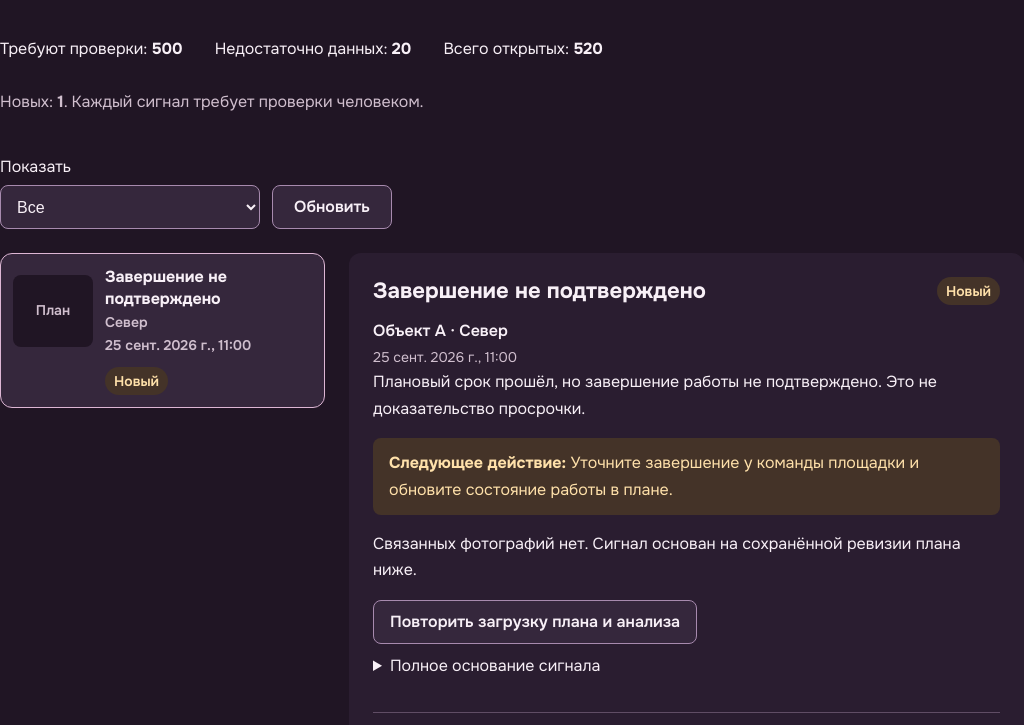
Scenario: uses server totals independently of the visible list and refreshes them after patch
Check: the element named "Сводка открытых сигналов" shows "Всего открытых: 520", box [0, 38, 603, 59]
Check: the element named "Сводка открытых сигналов" shows "Требуют проверки: 500", box [0, 38, 603, 59]
Select "Закрытые" in the dropdown labelled "Показать" at (130, 207), box [0, 185, 260, 229]
(page scrolled)
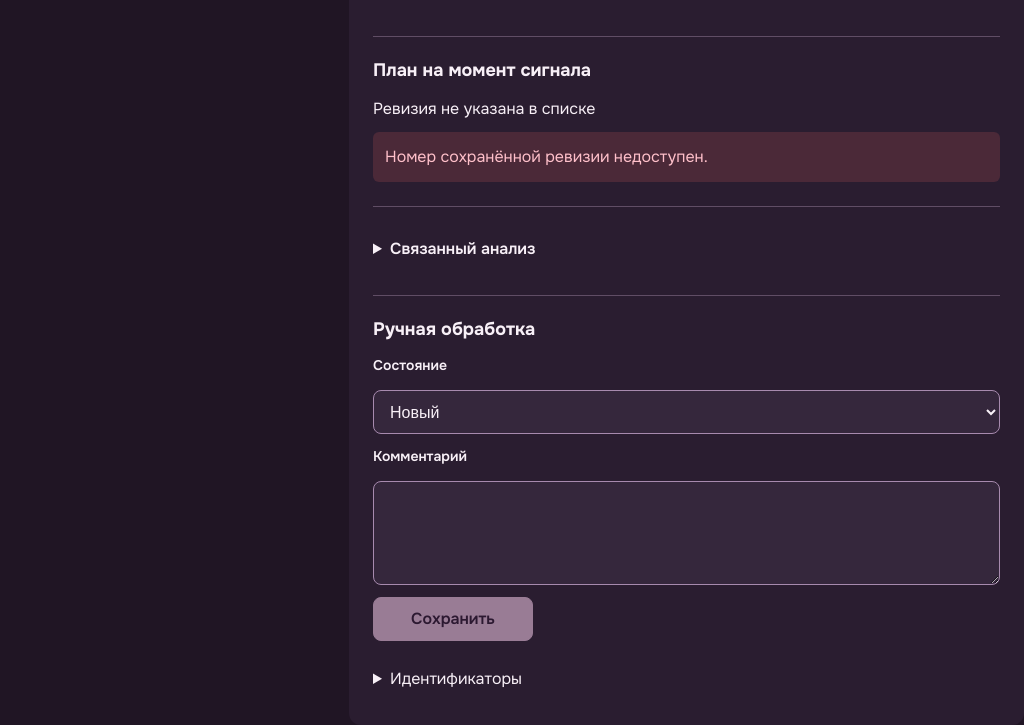
Select "Закрыт" in the dropdown labelled "Состояние" at (686, 412), box [373, 390, 1000, 434]
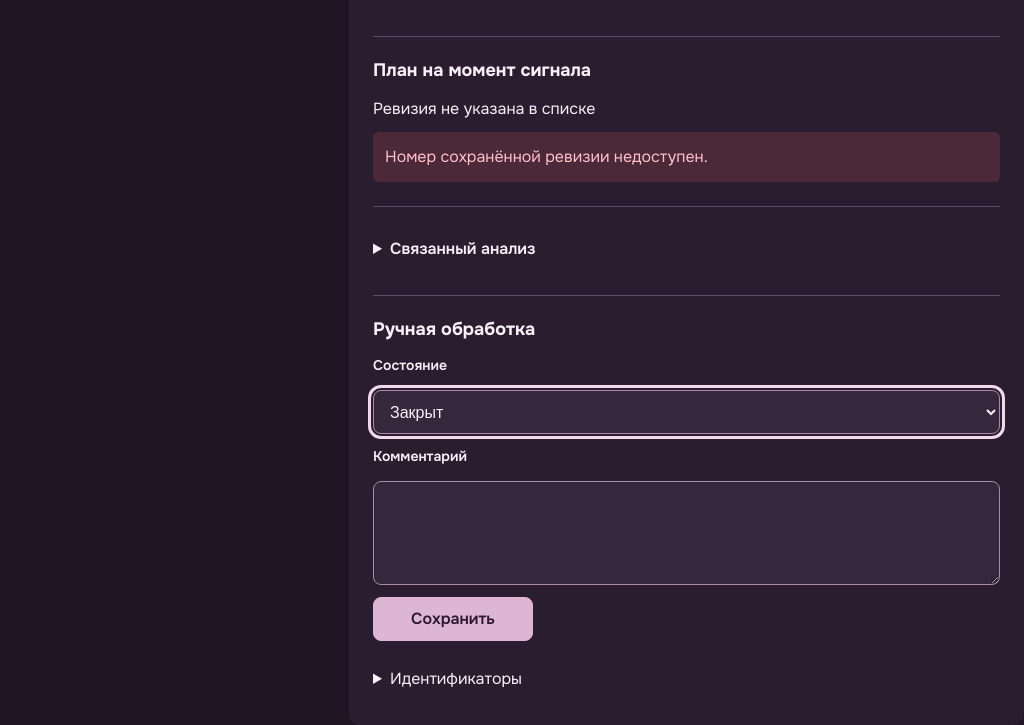
Click the button "Сохранить" at (453, 620), box [373, 598, 533, 642]
(page scrolled)
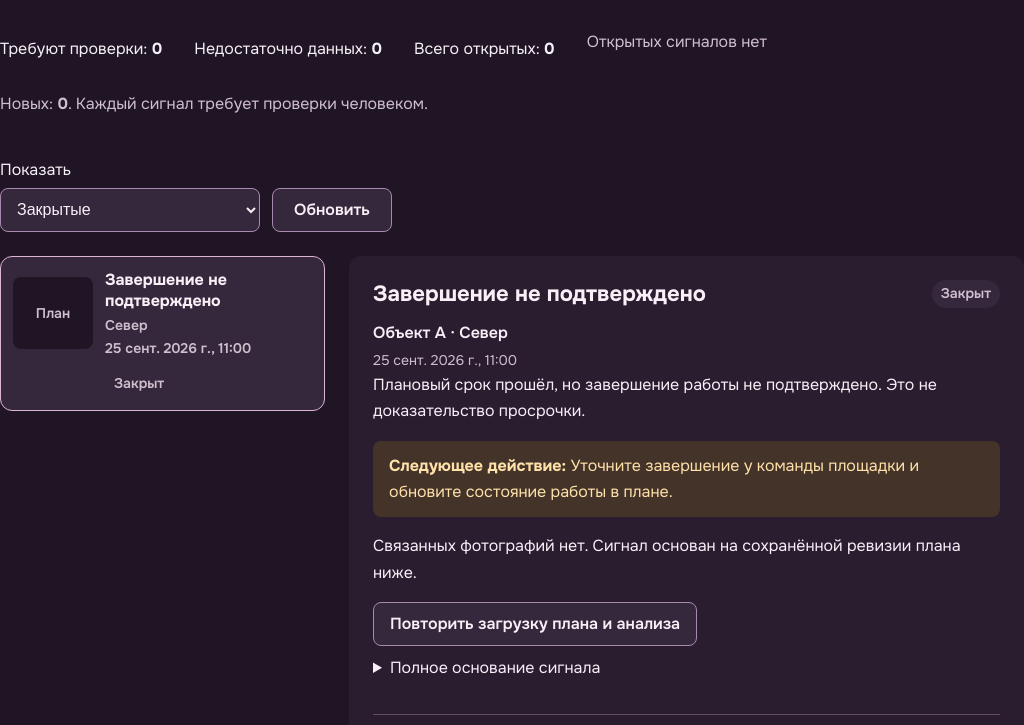
Check: the text "Открытых сигналов нет" is shown, box [587, 29, 767, 55]
